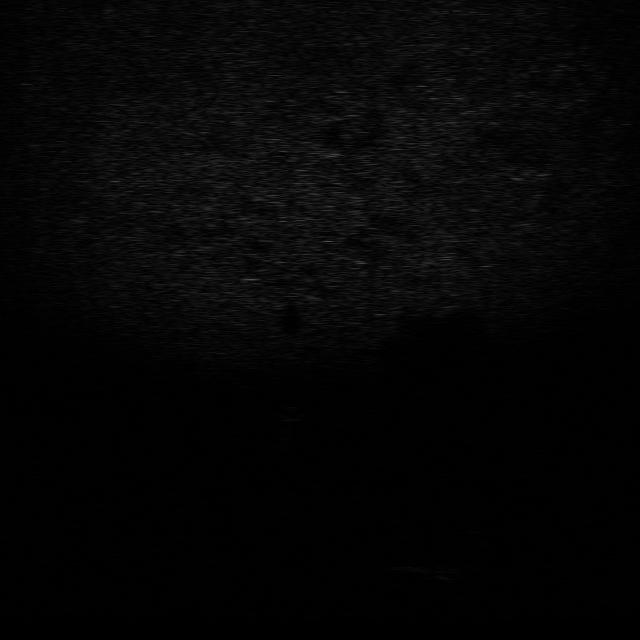ball: (275, 404, 310, 423)
metal bucket: (386, 555, 460, 584)
tyre: (445, 515, 500, 551)
